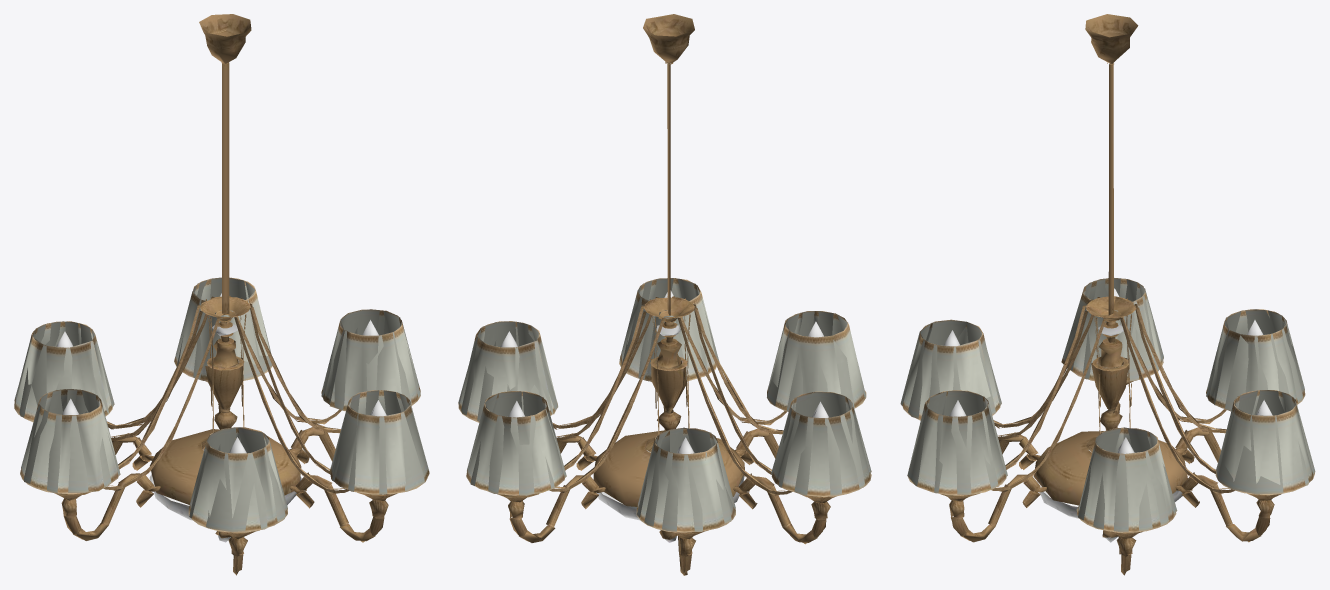
File: ph_Chandelier_02.glb
The picture shows the model from 3 angles, left to right: view 1: azimuth 30°, elevation 25°; view 2: azimuth 150°, elevation 25°; view 3: azimuth 270°, elevation 25°; orthographic projection.
Parts seen in each view (by area): view 1: Chandelier_02; view 2: Chandelier_02; view 3: Chandelier_02.
Part boxes in pixels (x1,y1,x2,y2): Chandelier_02: (14,14,429,575); Chandelier_02: (458,14,871,575); Chandelier_02: (900,14,1315,575).
Size of the model in its own units: 0.6774 by 0.8496 by 0.6181.
Materials: 2 (1 with a texture image).
